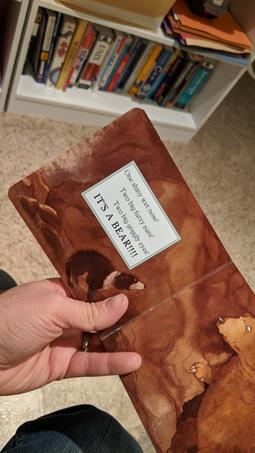text block: (87, 162, 171, 262)
